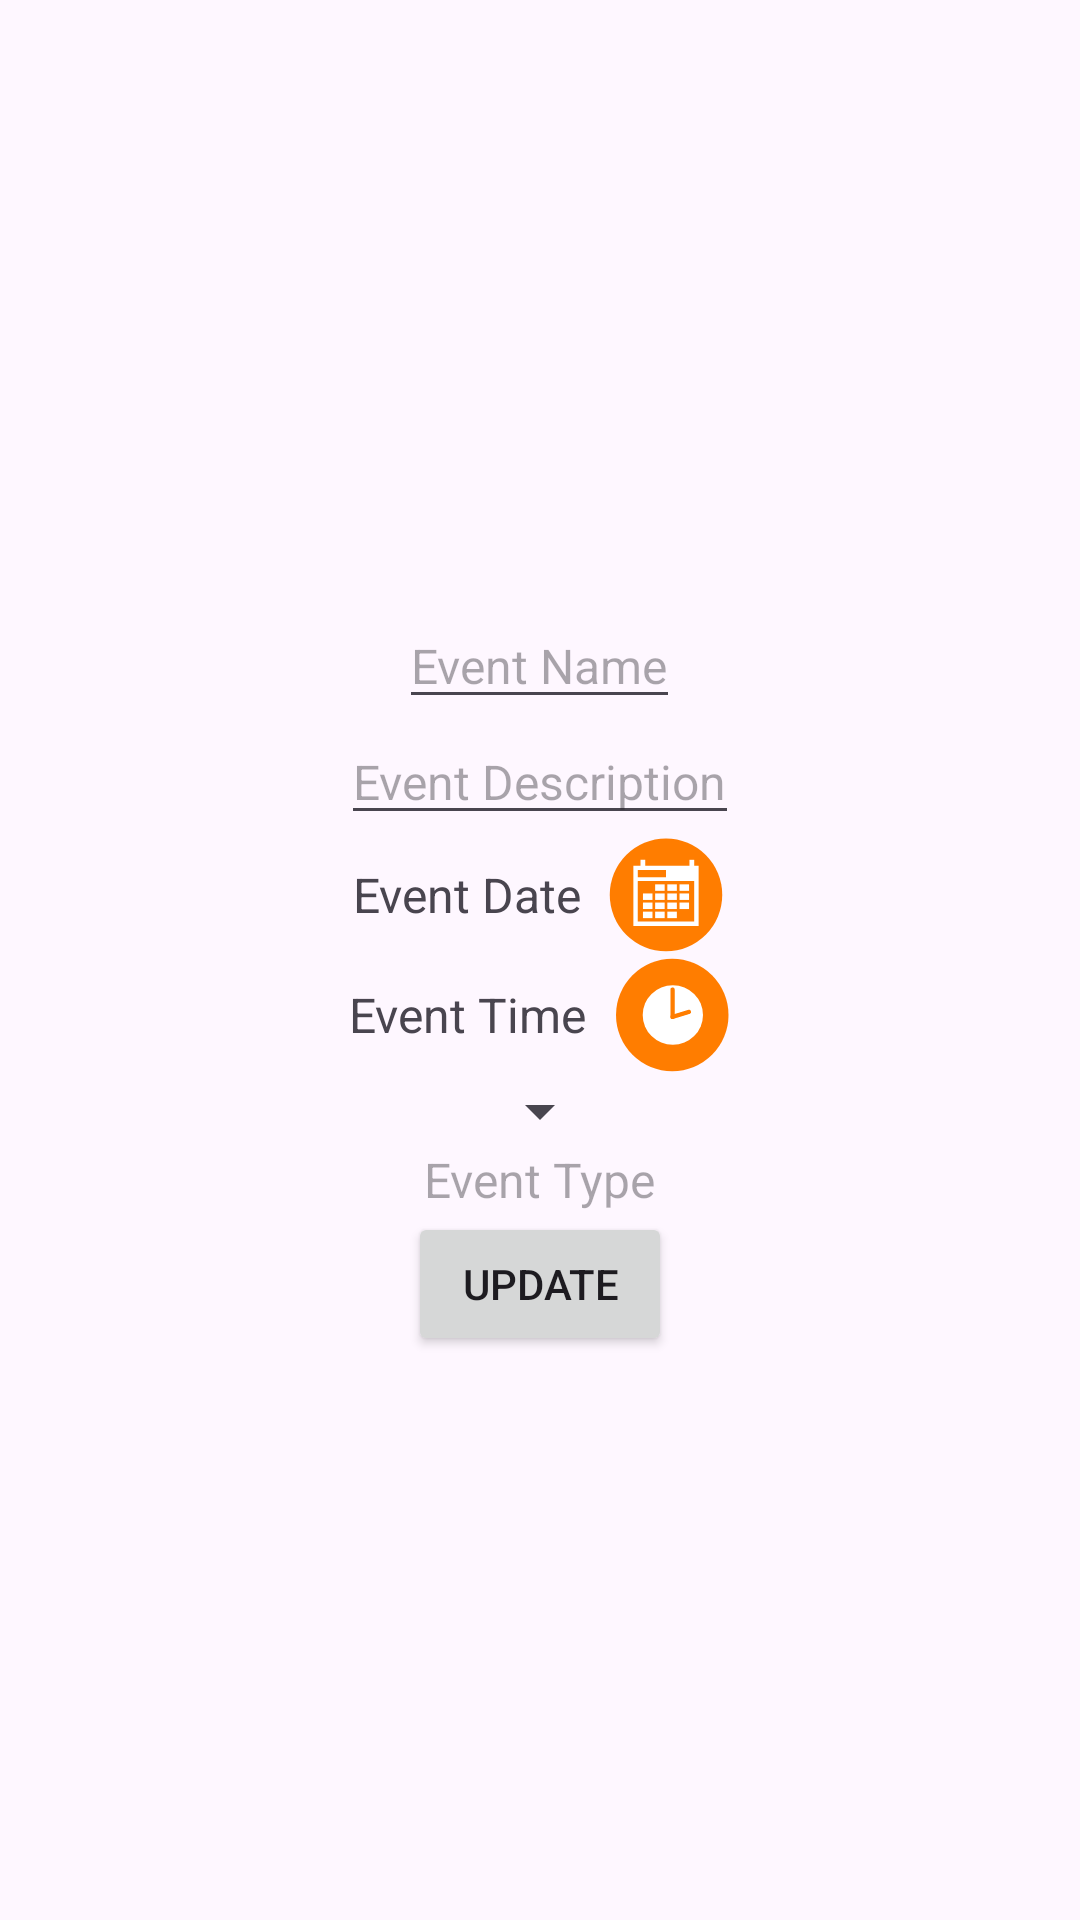

Named icons in this screenshot (1080 × 1920) and their centers, [x,y]:
calender: [666,895]
clock: [672,1015]
